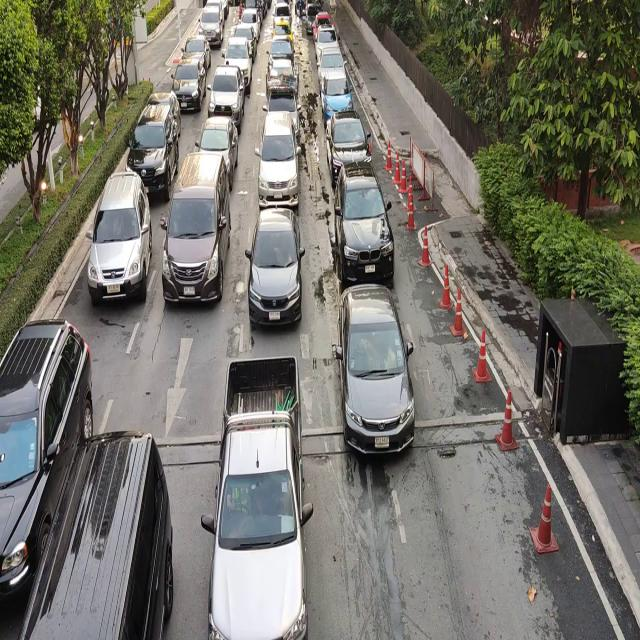car: (20, 434, 174, 640), (212, 350, 312, 640), (4, 320, 92, 606), (338, 279, 415, 462), (162, 154, 232, 307), (91, 169, 149, 301), (333, 162, 394, 278), (248, 206, 306, 325), (128, 103, 179, 204), (258, 111, 301, 210), (199, 117, 238, 183), (328, 115, 371, 164), (265, 74, 300, 132), (209, 66, 247, 118), (172, 62, 207, 110), (321, 69, 353, 116), (225, 36, 252, 90), (149, 92, 180, 133), (200, 7, 224, 47), (182, 36, 211, 68), (318, 47, 347, 73), (266, 40, 295, 60), (314, 24, 339, 46), (267, 59, 298, 75), (273, 22, 294, 45)
